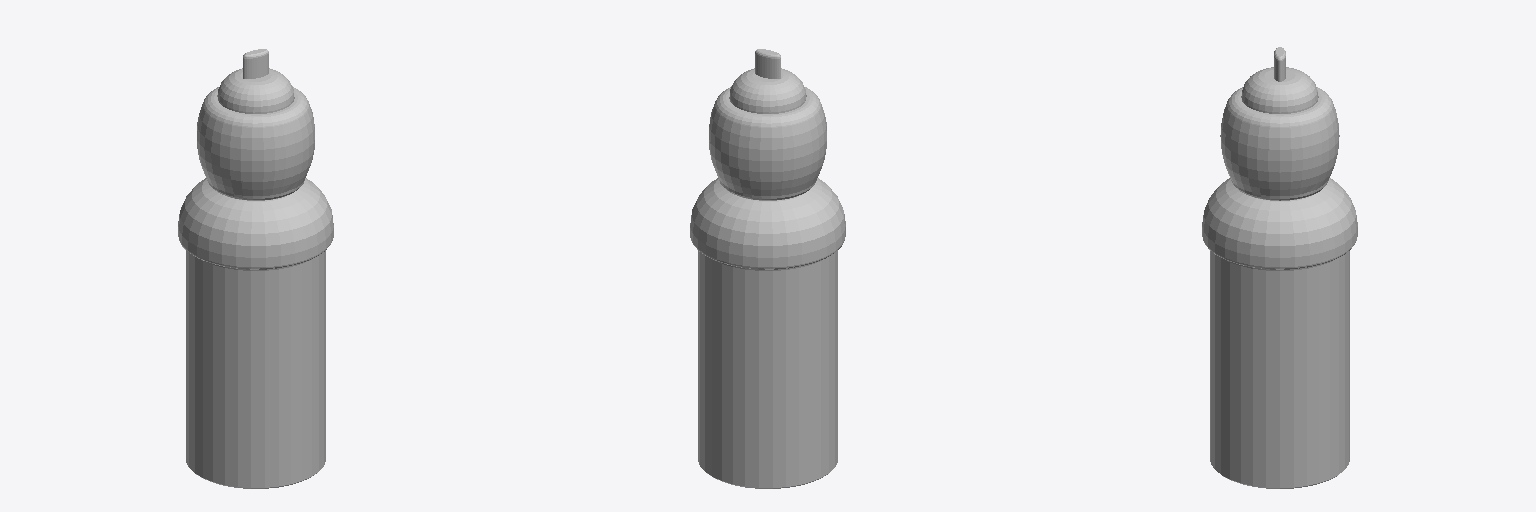
The model's file is SetA_Bottle_Style_04.obj.
3 views of the same model, side by side, from view 1: azimuth 30°, elevation 25°; view 2: azimuth 150°, elevation 25°; view 3: azimuth 270°, elevation 25° (orthographic).
Parts seen in each view (by area): view 1: SetA_Bottle_Style_04; view 2: SetA_Bottle_Style_04; view 3: SetA_Bottle_Style_04.
Part boxes in pixels (left/top/right/bottom): SetA_Bottle_Style_04: left=178, top=49, right=333, bottom=488; SetA_Bottle_Style_04: left=690, top=49, right=845, bottom=488; SetA_Bottle_Style_04: left=1202, top=47, right=1357, bottom=488.
Size of the model in its own units: 0.1224 by 0.3538 by 0.1224.